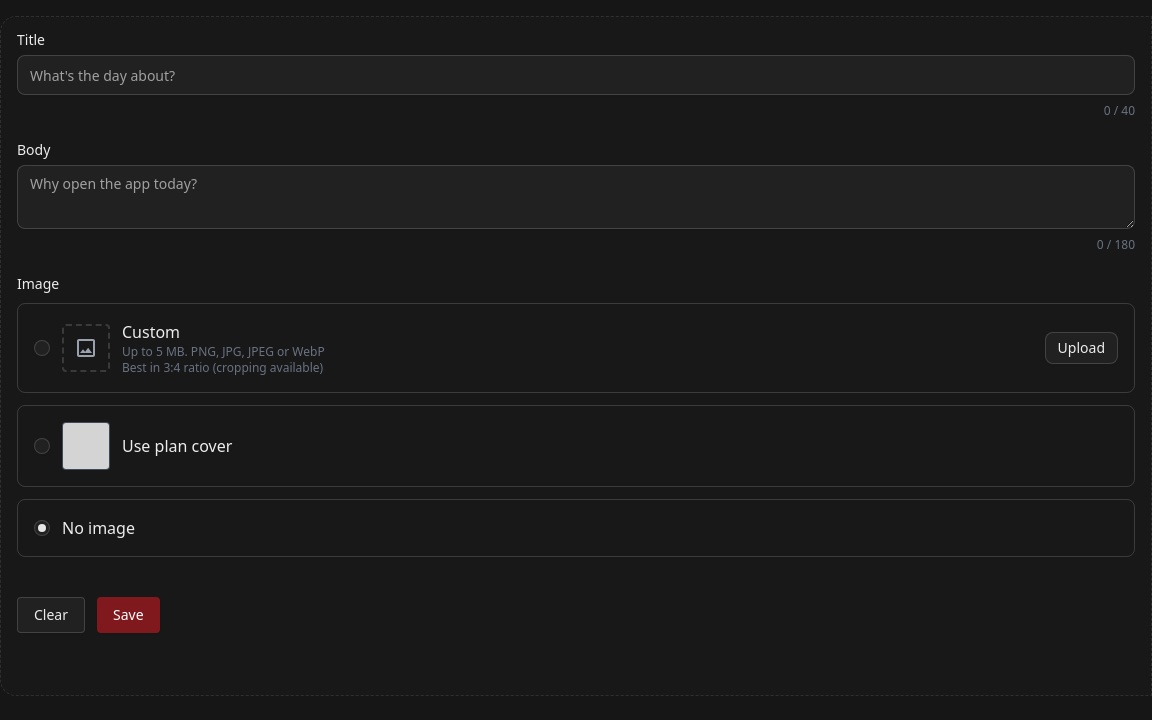
Test: NotificationForm Component › Form Interaction Tests › updates body field and character counter
Type "New Body Content" into the text box labelled "Body" at (576, 197), box [17,165,1135,229]
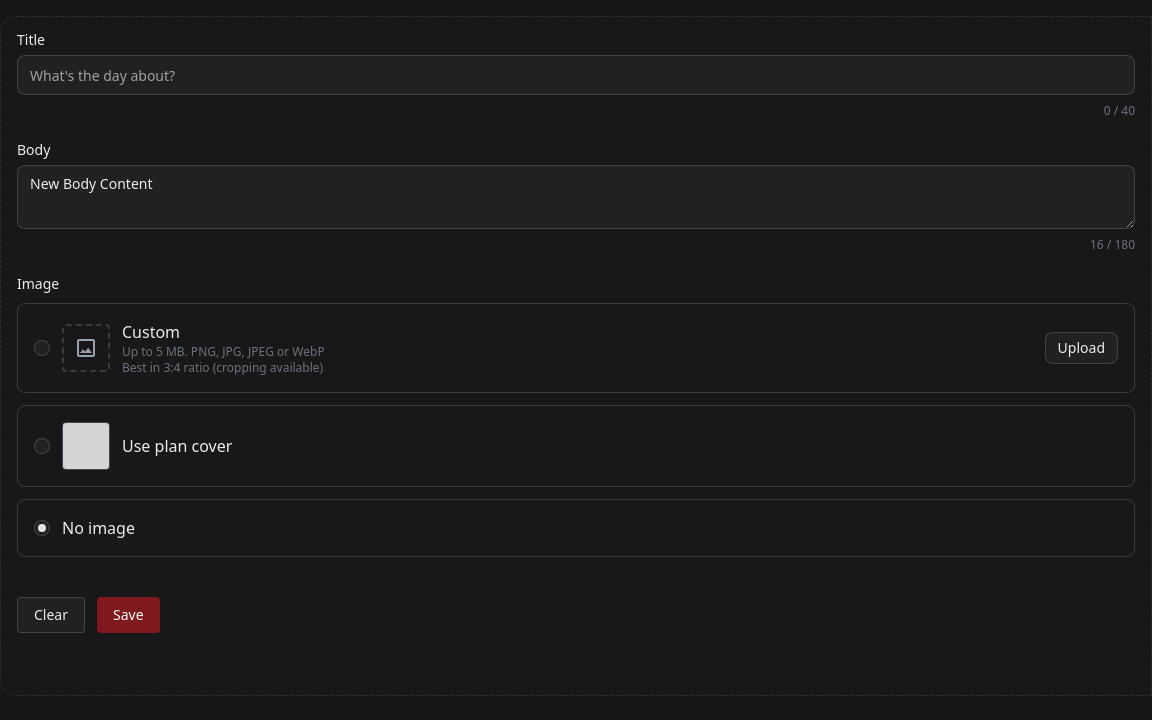
Check: the text "16 / 180" is shown, box [1090,236,1135,253]
